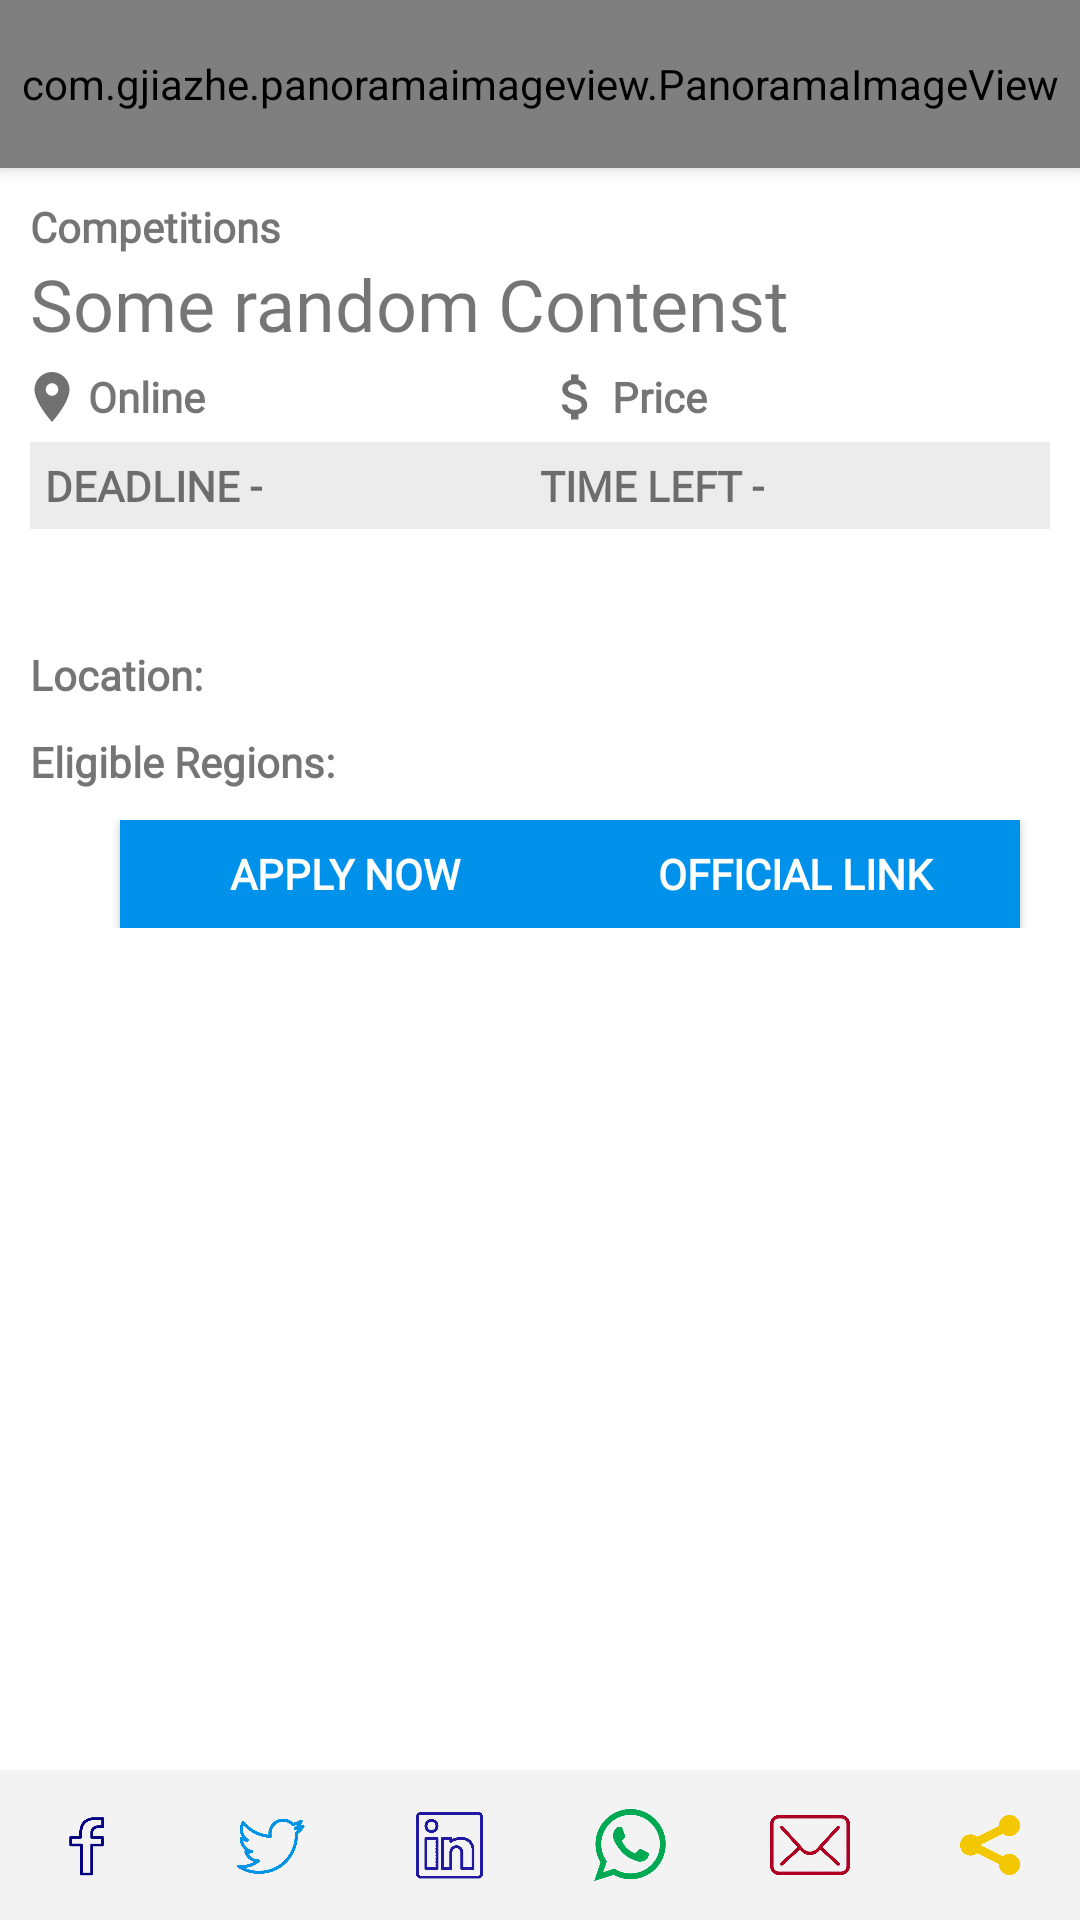

Screen size 1080w x 1920h. Icon name, then its box in pixels as rect(x1, y1, x2, y2):
currency: rect(562, 374, 588, 420)
mail: rect(770, 1815, 850, 1875)
place: rect(34, 372, 70, 422)
share: rect(960, 1815, 1020, 1875)
